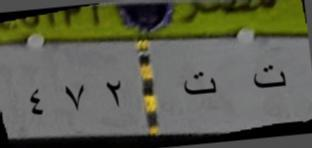2: (97, 70, 130, 113)
4: (22, 83, 48, 129)
7: (55, 78, 95, 118)
taa: (176, 65, 222, 107), (243, 60, 292, 96)
